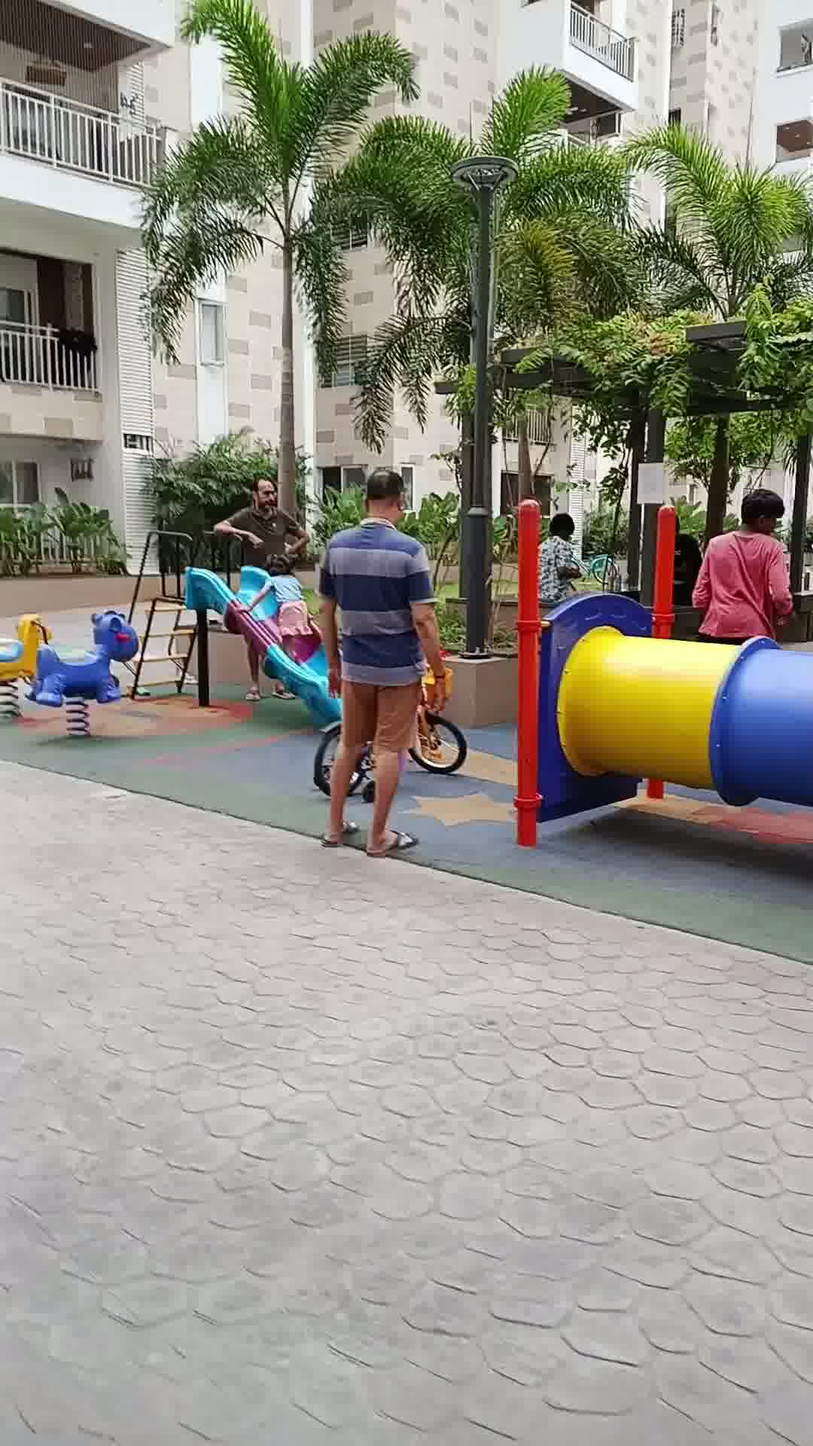bicycle: (304, 672, 464, 786)
person: (316, 453, 430, 854), (700, 473, 794, 669), (213, 464, 299, 606), (248, 541, 313, 663), (541, 490, 578, 615)
tree: (131, 6, 384, 581), (344, 23, 555, 584), (623, 97, 802, 541)
